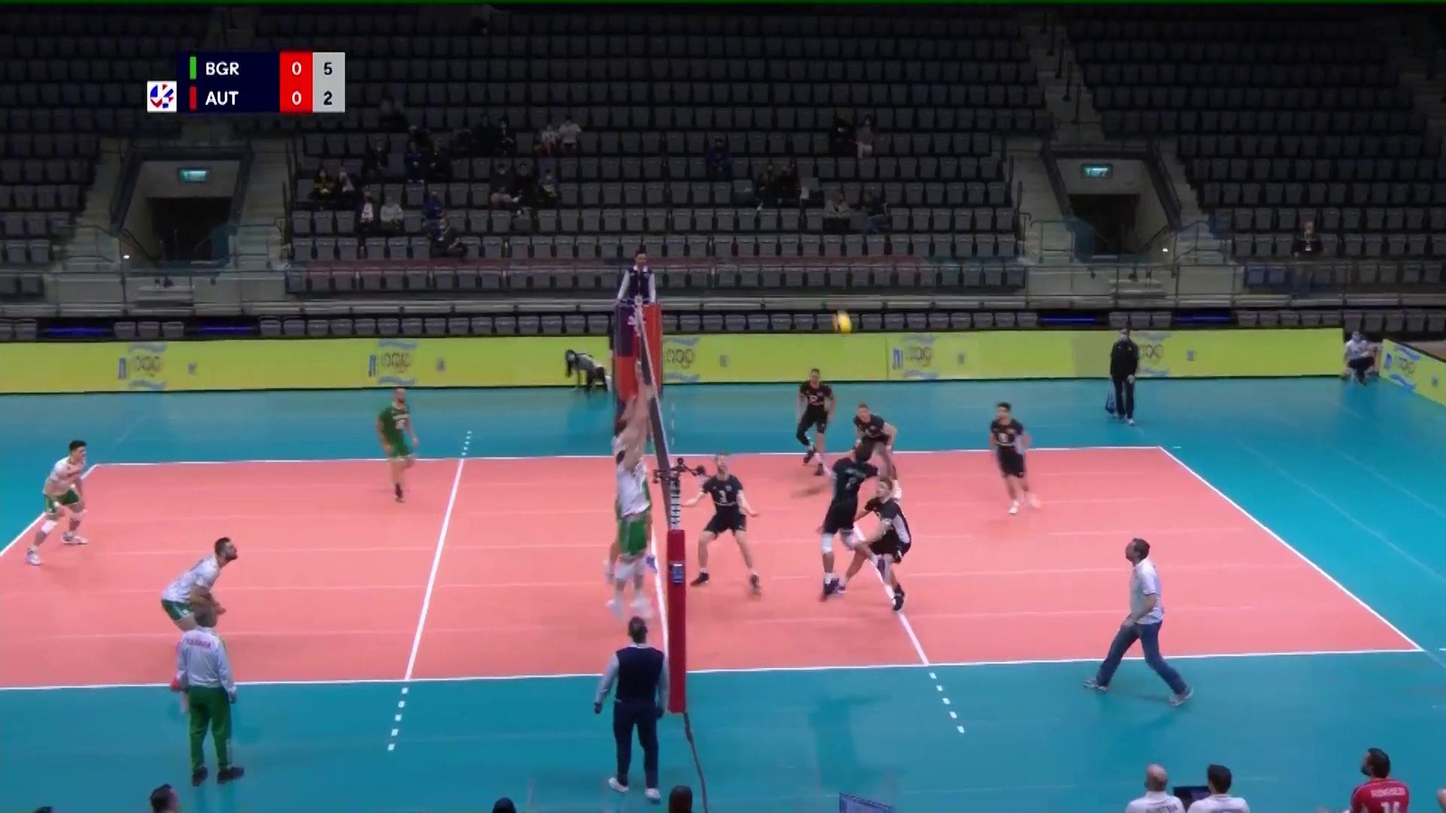ball: (830, 310, 851, 335)
